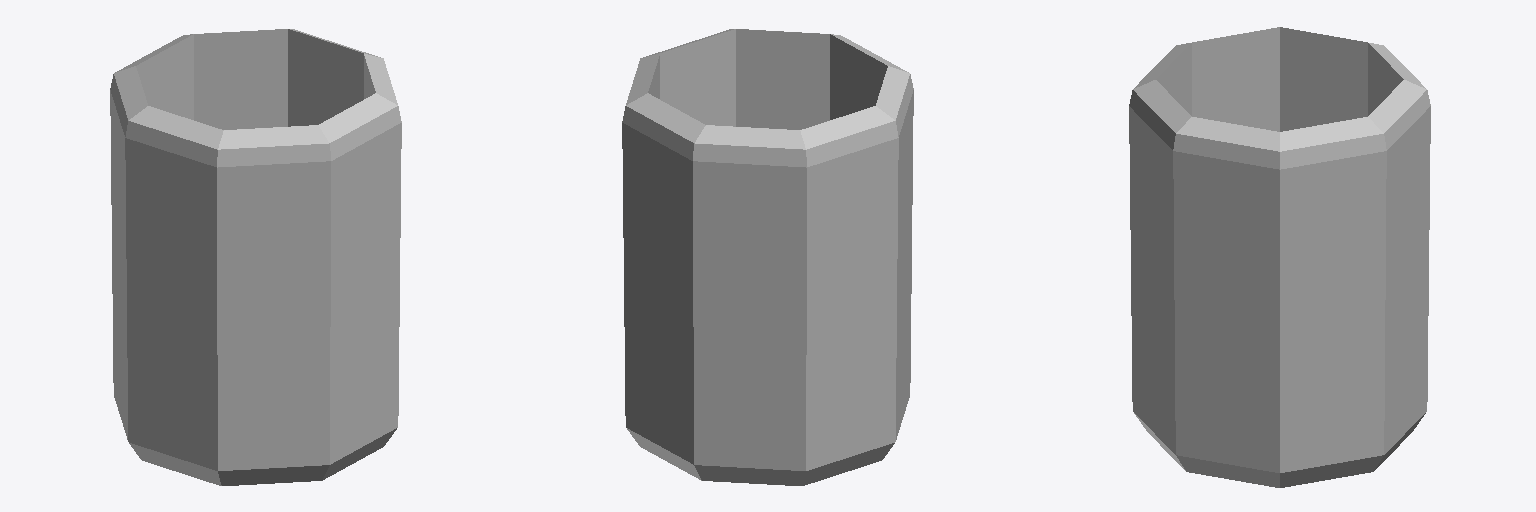
The model's file is EnvironmentGarbageCan.obj.
3 views of the same model, side by side, from view 1: azimuth 30°, elevation 25°; view 2: azimuth 150°, elevation 25°; view 3: azimuth 270°, elevation 25° (orthographic).
Bounding box in the file's own units: 0.1334 × 0.1721 × 0.1334.